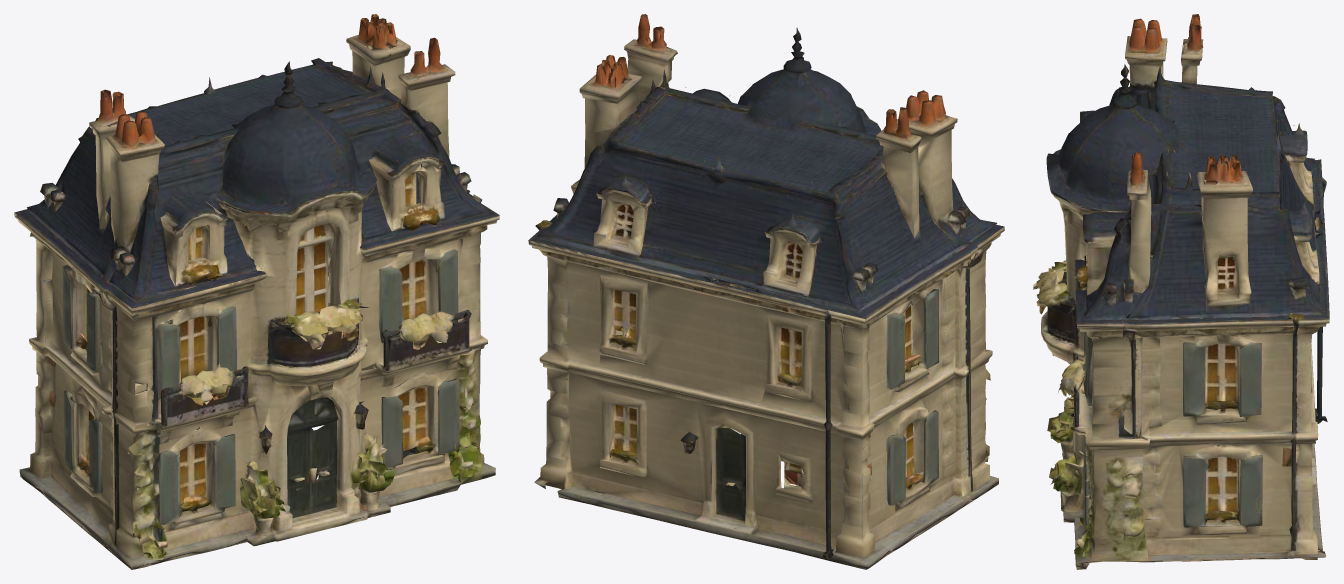
3 views of the same model, side by side, from view 1: azimuth 30°, elevation 25°; view 2: azimuth 150°, elevation 25°; view 3: azimuth 270°, elevation 25° (orthographic). The views are drawn at different scales.
Parts seen in each view (by area): view 1: classic__tower_2__native_mobile; view 2: classic__tower_2__native_mobile; view 3: classic__tower_2__native_mobile.
Boxes of the visible parts, x1=… form: classic__tower_2__native_mobile: x1=14, y1=14, x2=499, y2=569; classic__tower_2__native_mobile: x1=528, y1=14, x2=1004, y2=569; classic__tower_2__native_mobile: x1=1033, y1=14, x2=1329, y2=569.
Bounding box in the file's own units: 0.9005 × 1 × 0.6265.
1 material, 1 textured.
